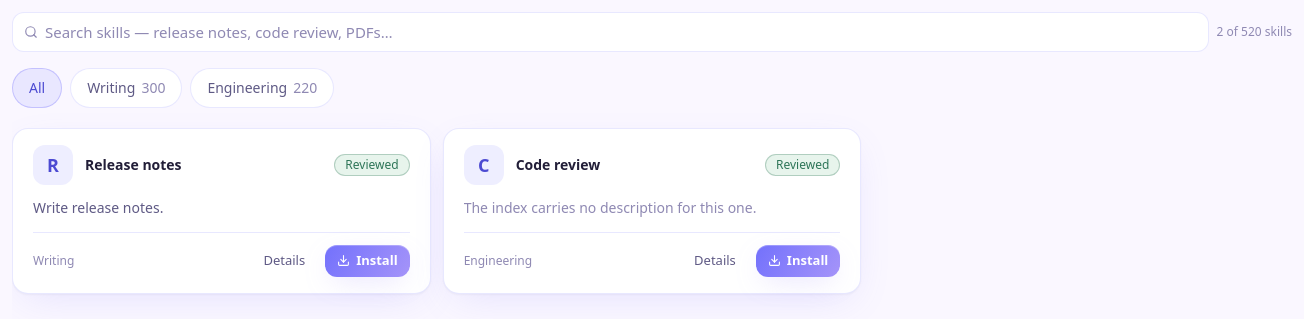
SkillCatalogGallery › collapses a burst of typing into one debounced request
Expected: the list item with test id "skill-release-notes" is shown, [12,128,431,294]
Type "r" into the search field labelled "Search skills" at (610, 32), box [12,12,1209,52]
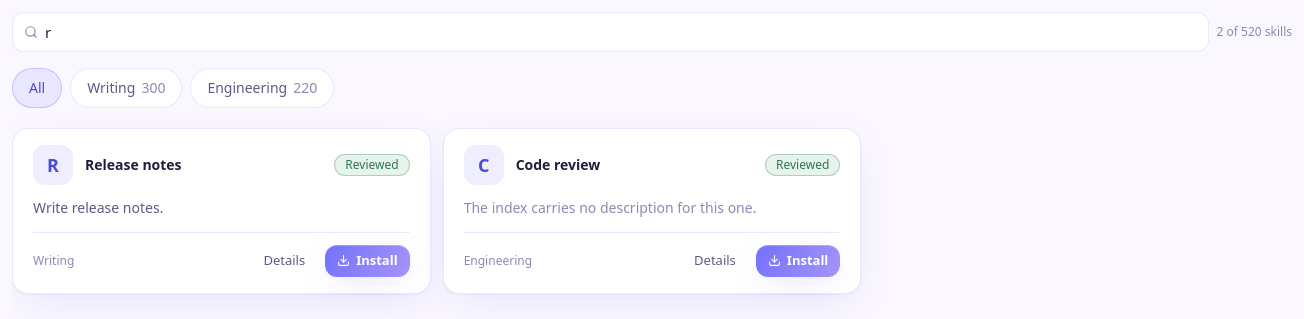
Replace the text in the search field named "Search skills" with "re" at (610, 32), box [12,12,1209,52]
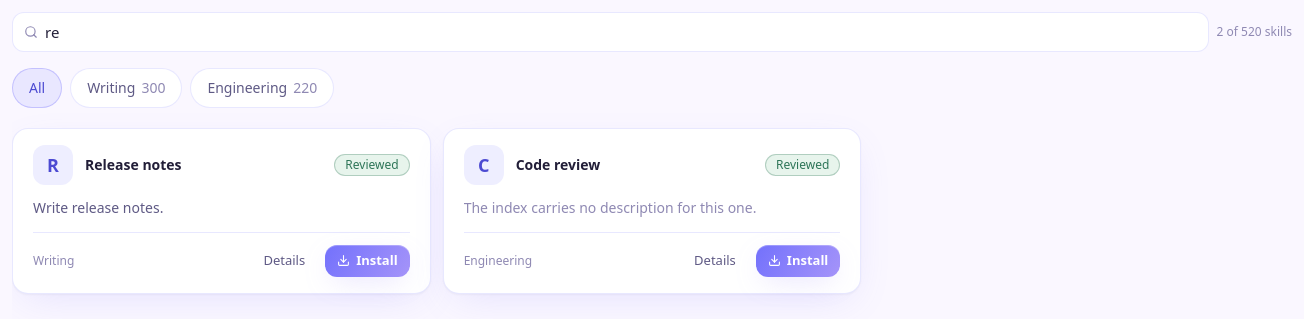
Replace the text in the search field named "Search skills" with "rel" at (610, 32), box [12,12,1209,52]
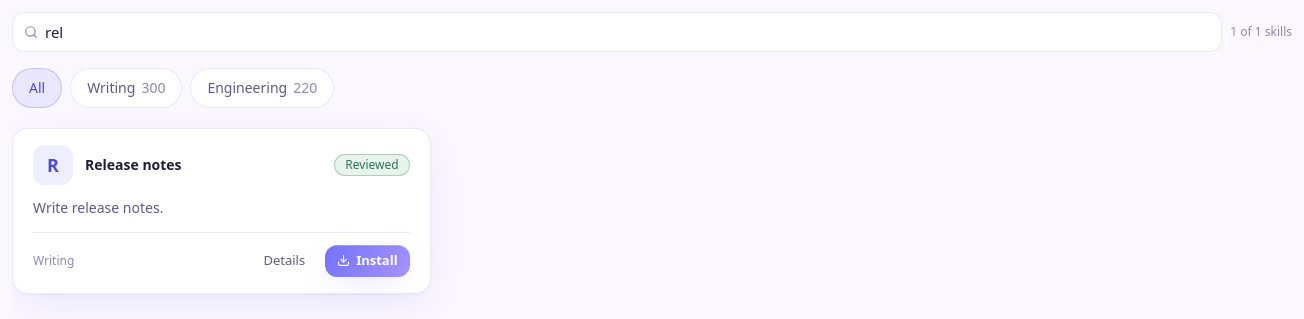
Expected: the list item with test id "skill-release-notes" is shown, [12,128,431,294]
Expected: the list item with test id "skill-code-review" is gone
